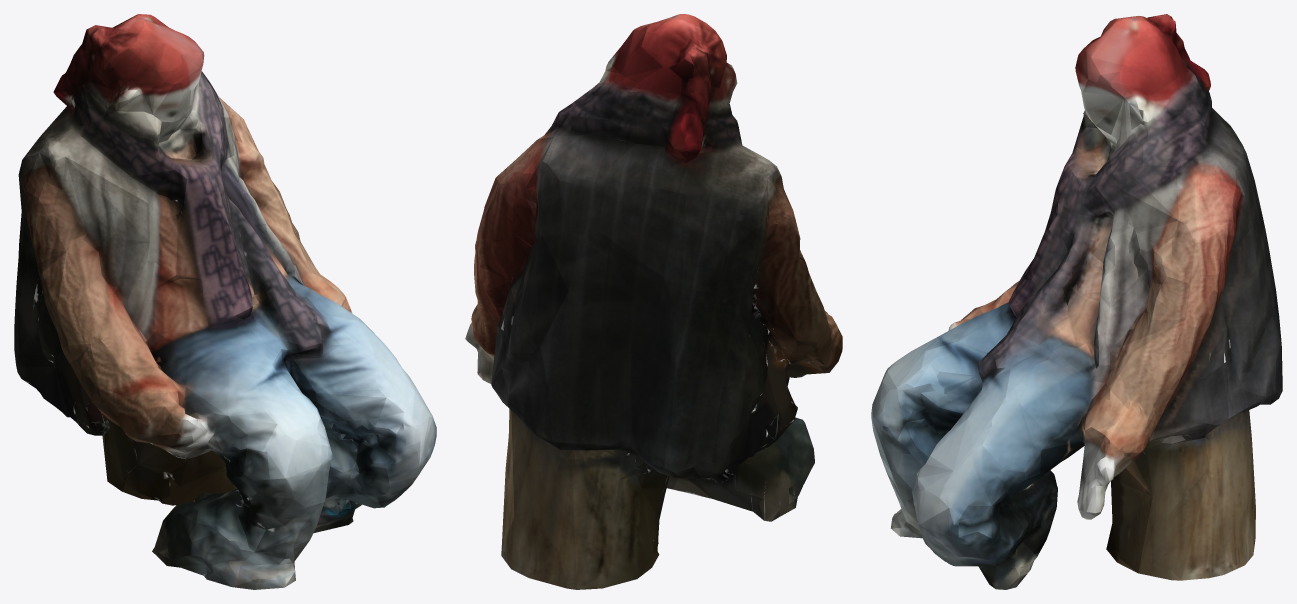
File: kakashi_04b.fbx
3 views of the same model, side by side, from view 1: azimuth 30°, elevation 25°; view 2: azimuth 150°, elevation 25°; view 3: azimuth 270°, elevation 25° (orthographic). The views are drawn at different scales.
Visible parts, largest first — view 1: MeshS; view 2: MeshS; view 3: MeshS.
Part boxes in pixels (box(x1,y1,x2,y2)): MeshS: box(14, 14, 436, 589); MeshS: box(465, 14, 842, 589); MeshS: box(871, 14, 1282, 589).
Bounding box in the file's own units: 12.2 × 17.86 × 13.36.
1 material, 1 textured.
